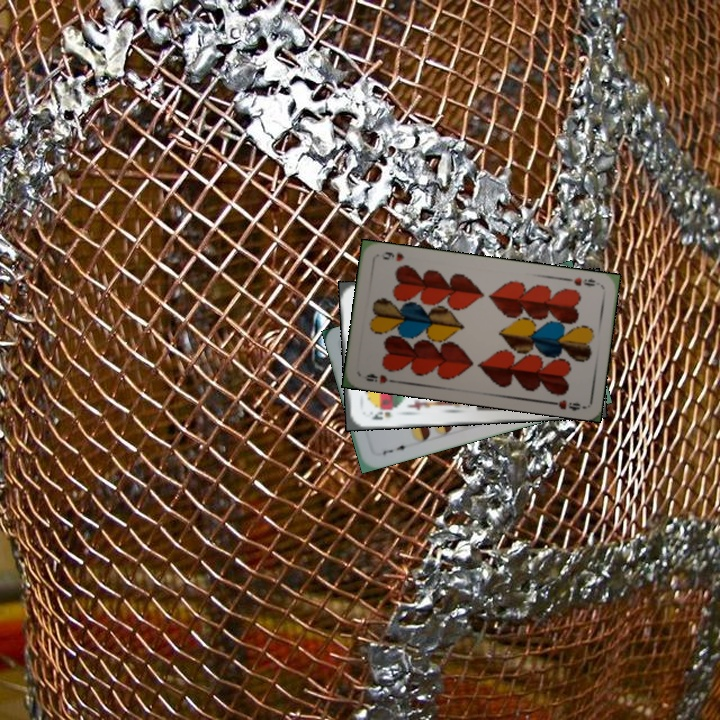E7: (378, 441, 412, 457)
H9: (360, 369, 399, 386), (562, 273, 598, 289)
SK: (368, 408, 393, 422)
